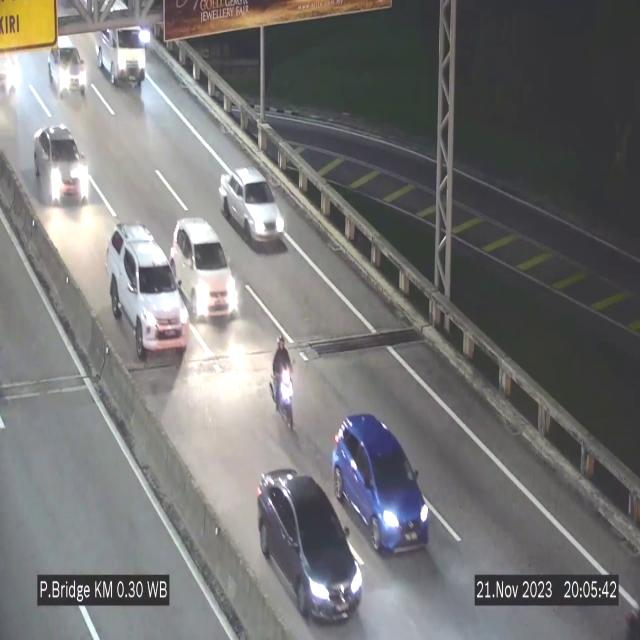Car: (258, 469, 362, 622), (332, 413, 429, 552), (108, 225, 188, 356), (169, 217, 239, 319), (89, 0, 153, 98), (30, 120, 95, 215), (220, 167, 286, 247), (51, 33, 92, 98)
Motorcycle: (270, 332, 298, 439)
